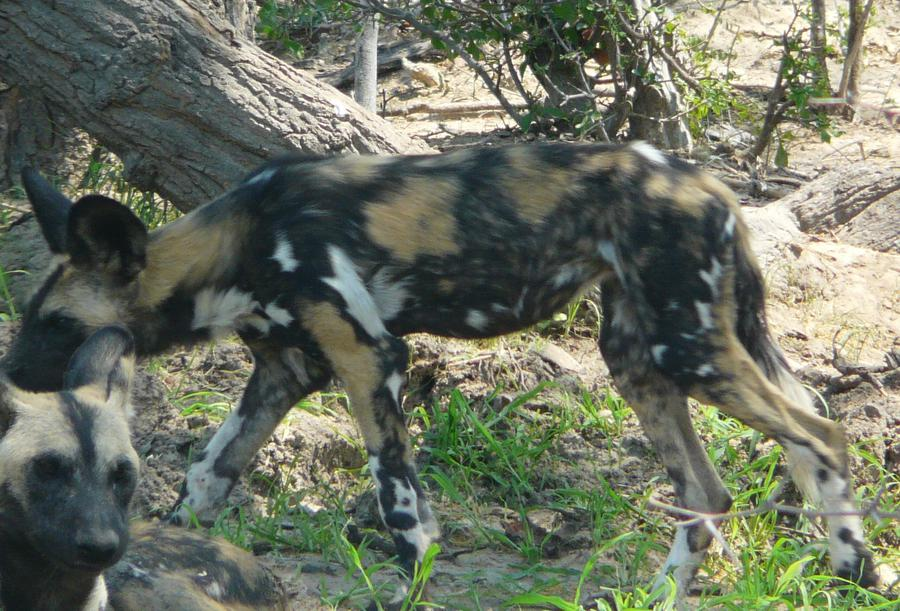wilddog: (1, 1, 900, 611)
